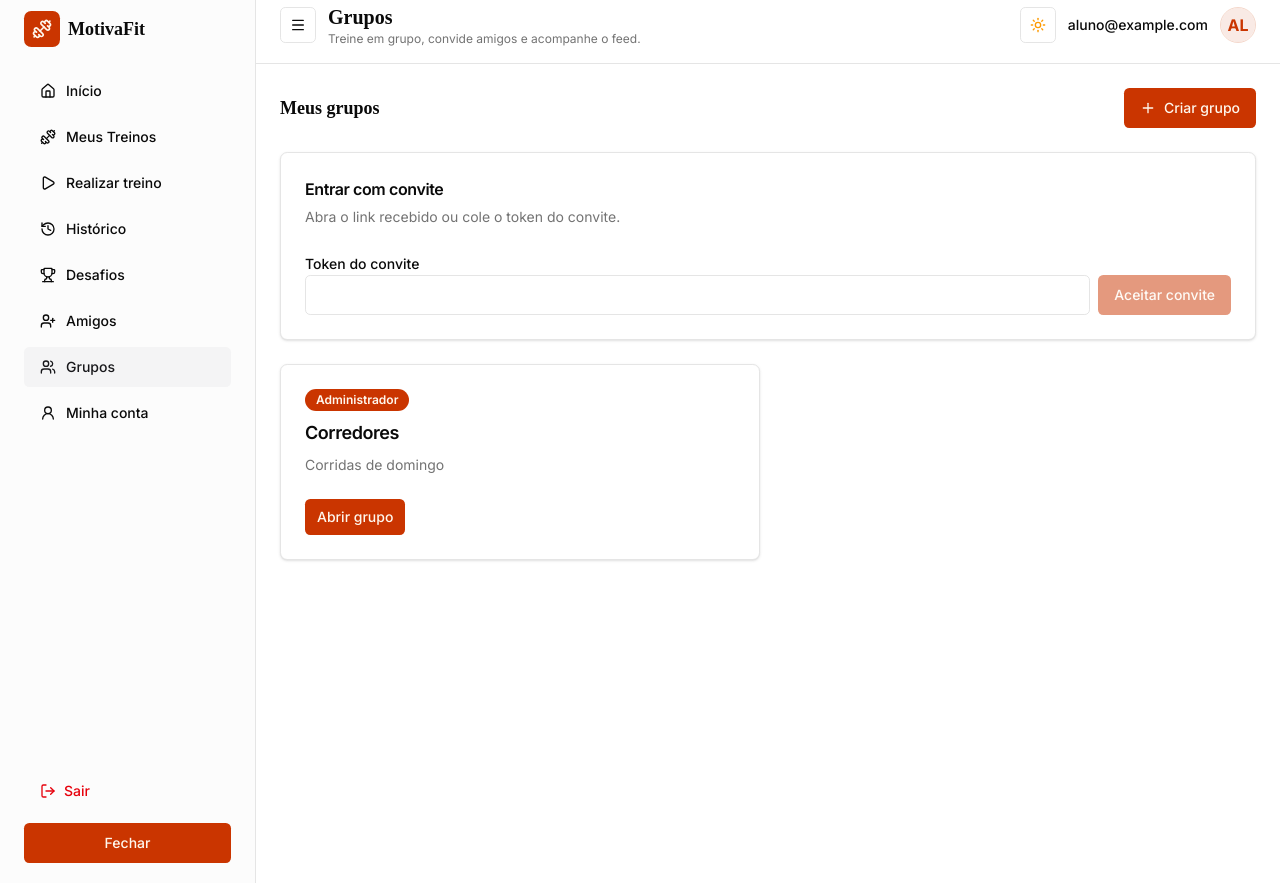
Test: grupos › abre o grupo com membros e feed e gera convite para amigo
Click the button with aria-label "Abrir Corredores" at (355, 517), box [305, 499, 405, 535]
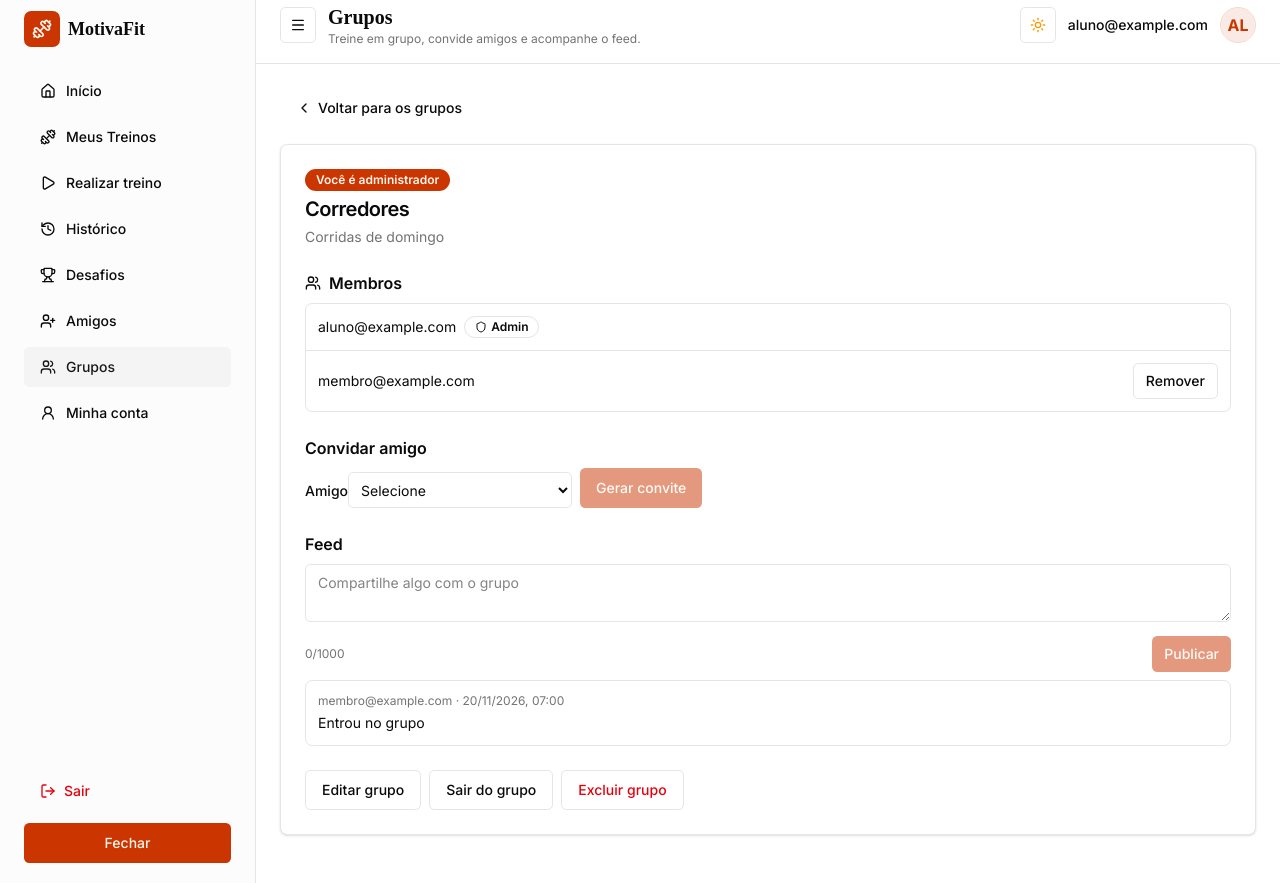
Now the text "membro@example.com" is shown, box [318, 371, 475, 391]
Now the text "Entrou no grupo" is shown, box [318, 714, 425, 731]
Now the text "membro@example.com · 20/11/2026, 07:00" is shown, box [318, 693, 564, 708]
Select "amiga@example.com" in the dropdown labelled "Amigo" at (460, 490), box [348, 472, 572, 508]
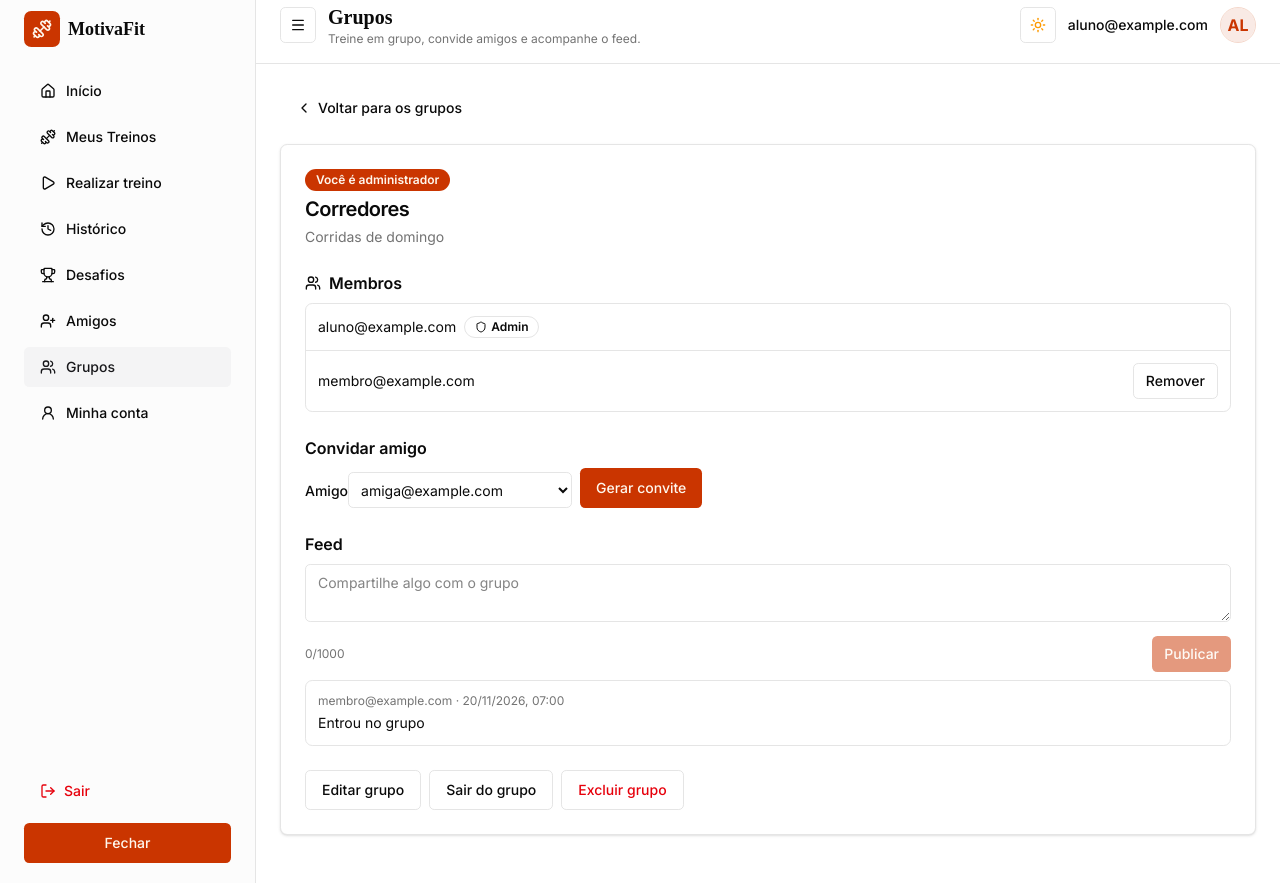
Click the button "Gerar convite" at (641, 488), box [580, 468, 702, 508]
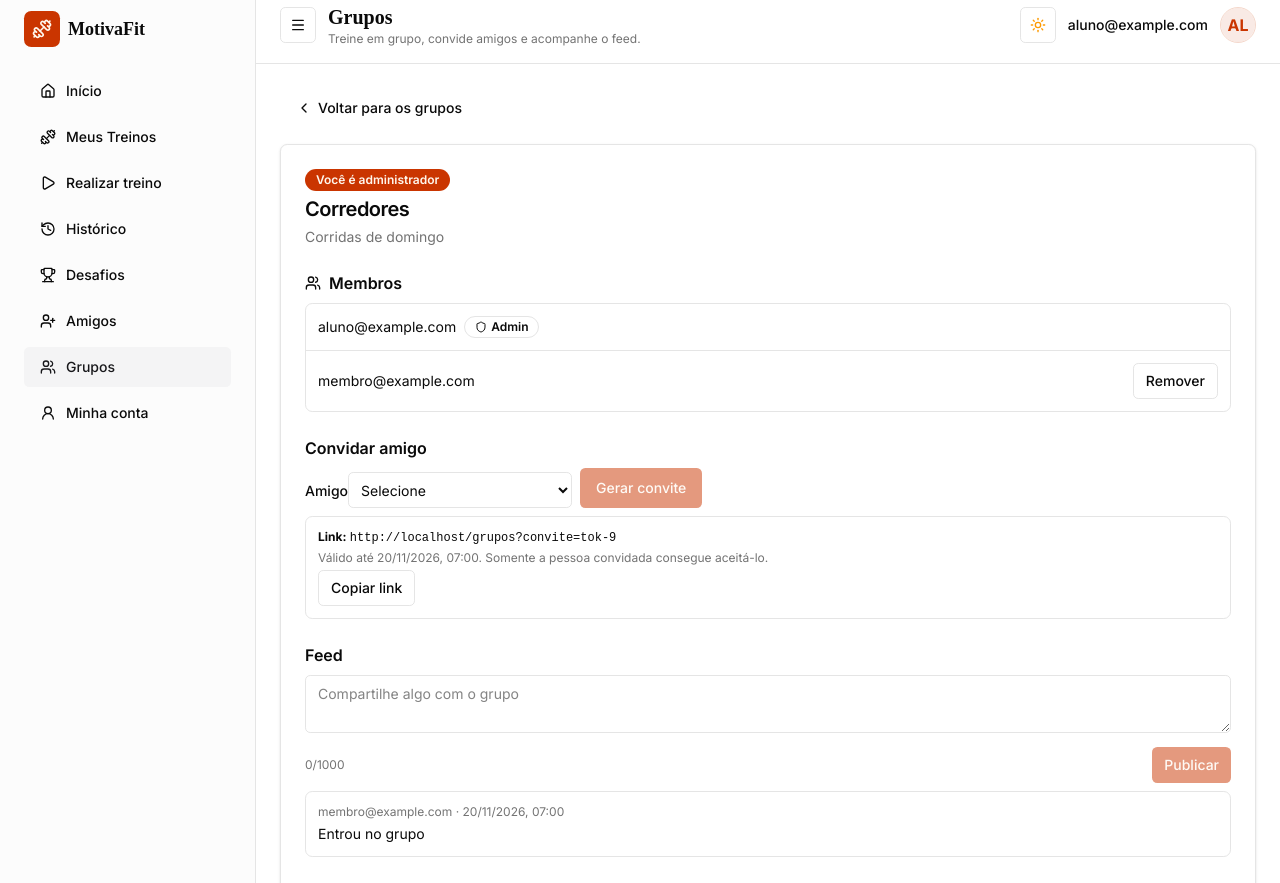
Type "  Treino feito!  " into the text box named "Nova publicação" at (768, 704), box [305, 675, 1231, 733]
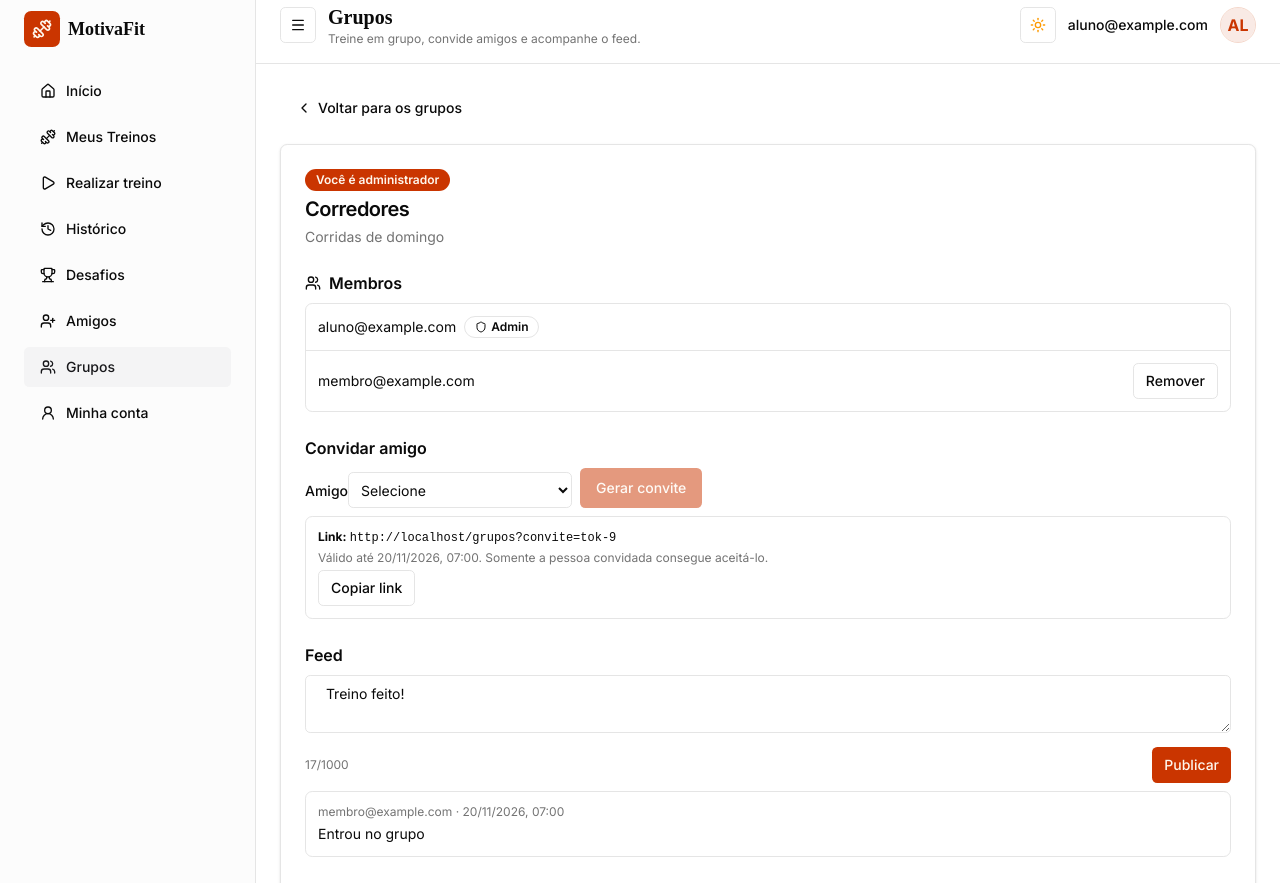
Click the button "Publicar" at (1192, 765), box [1152, 747, 1231, 783]
(page scrolled)
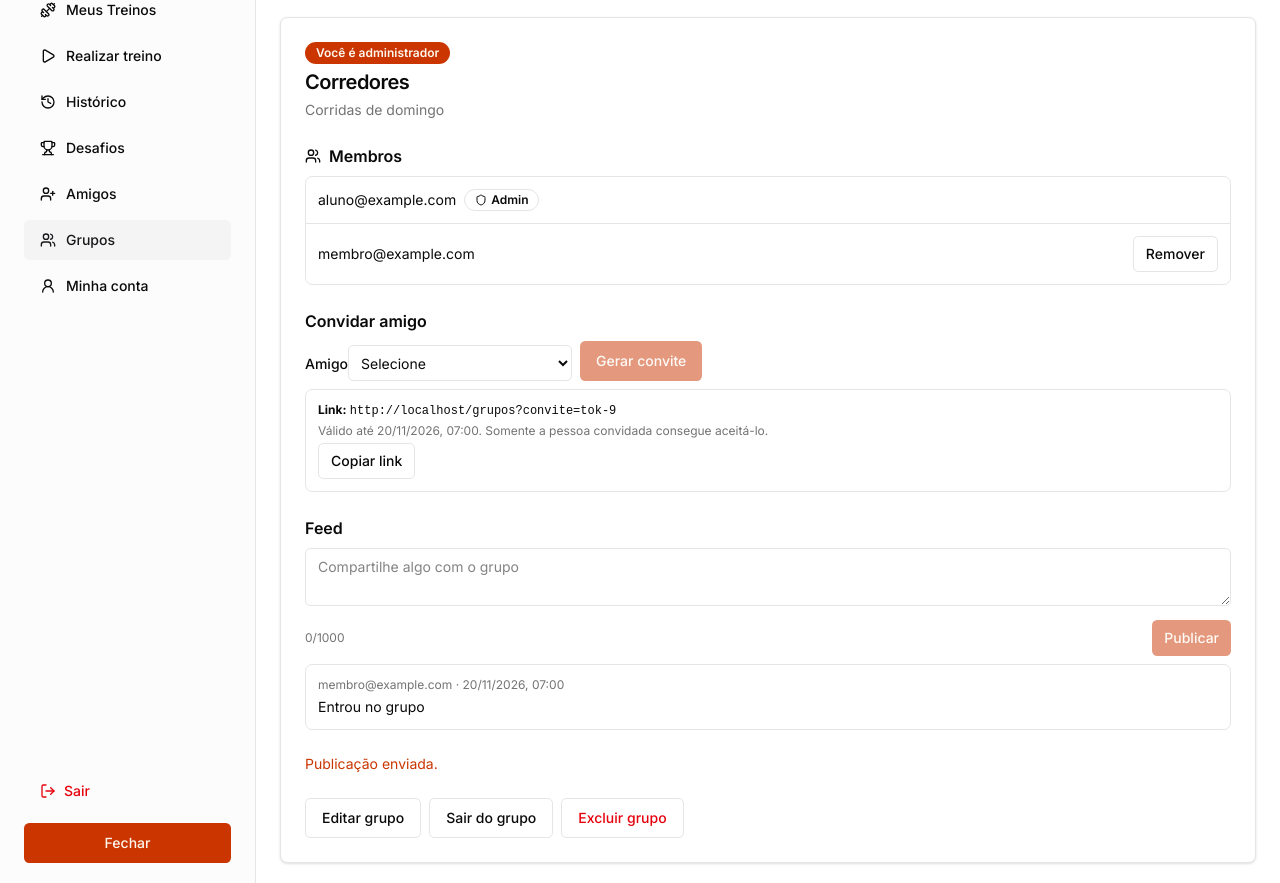
Now the text "Publicação enviada." is shown, box [305, 755, 438, 772]
